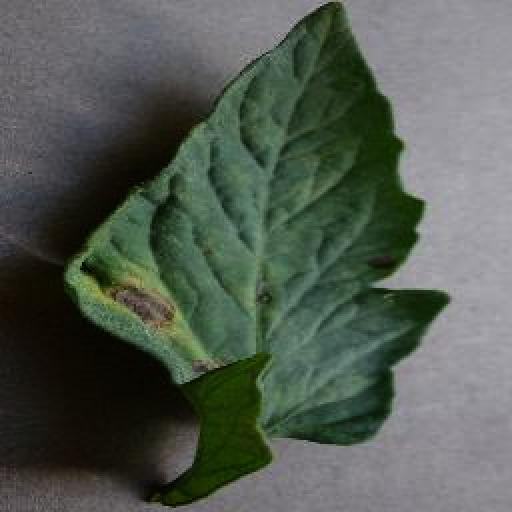disease_tomato: (55, 2, 447, 446)
